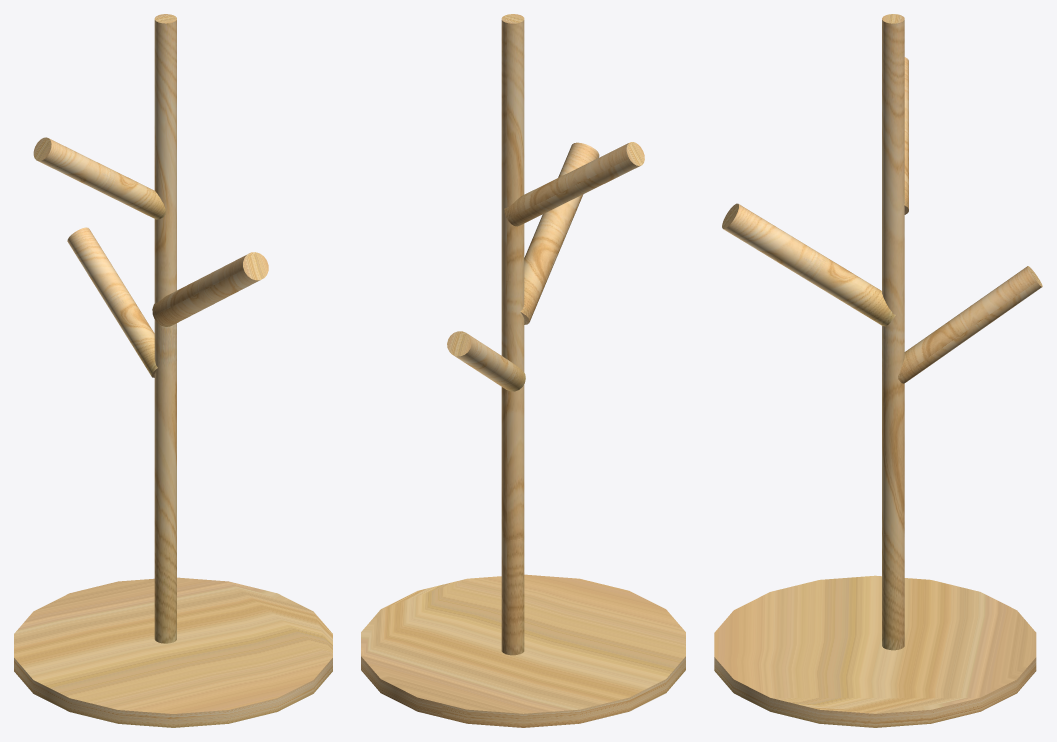
The model's file is naulakko.fbx.
The picture shows the model from 3 angles, left to right: view 1: azimuth 30°, elevation 25°; view 2: azimuth 150°, elevation 25°; view 3: azimuth 270°, elevation 25°; orthographic projection.
Visible parts, largest first — view 1: Cylinder002; view 2: Cylinder002; view 3: Cylinder002.
Boxes of the visible parts, bbox=[...] form: Cylinder002: bbox=[14, 14, 332, 727]; Cylinder002: bbox=[361, 14, 685, 727]; Cylinder002: bbox=[714, 14, 1042, 727].
Bounding box in the file's own units: 44.8 × 96.82 × 44.97.
1 material, 1 textured.
